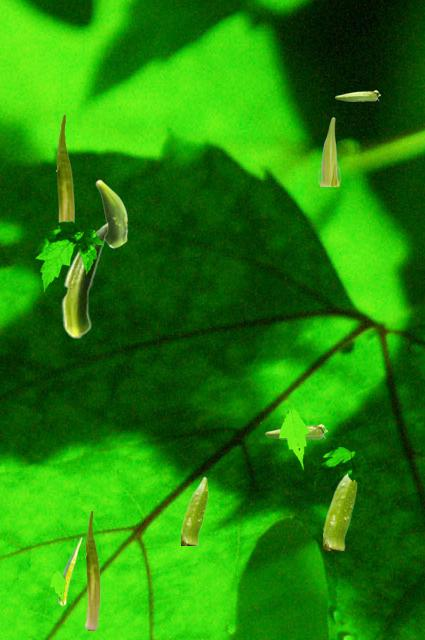okra: (61, 222, 106, 338), (323, 475, 356, 549), (95, 179, 127, 247), (56, 114, 73, 221), (181, 476, 207, 544), (85, 510, 99, 629), (58, 537, 81, 605), (317, 117, 339, 185), (265, 424, 326, 438), (335, 90, 379, 100)
